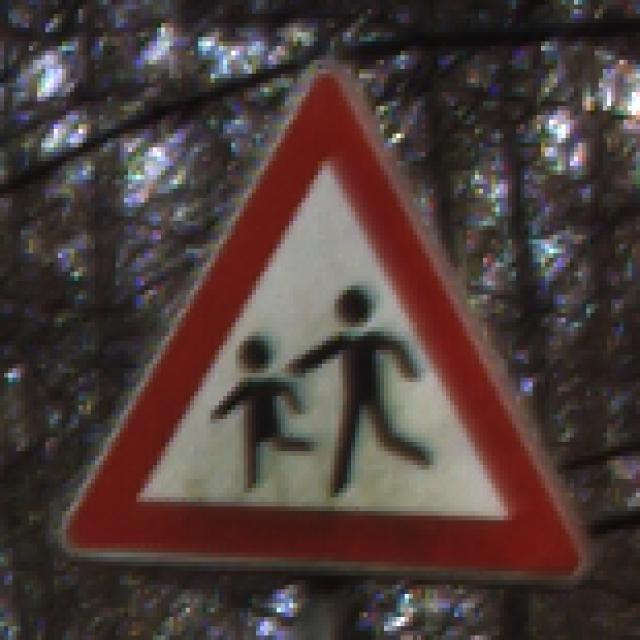school ahead: (59, 68, 594, 598)
